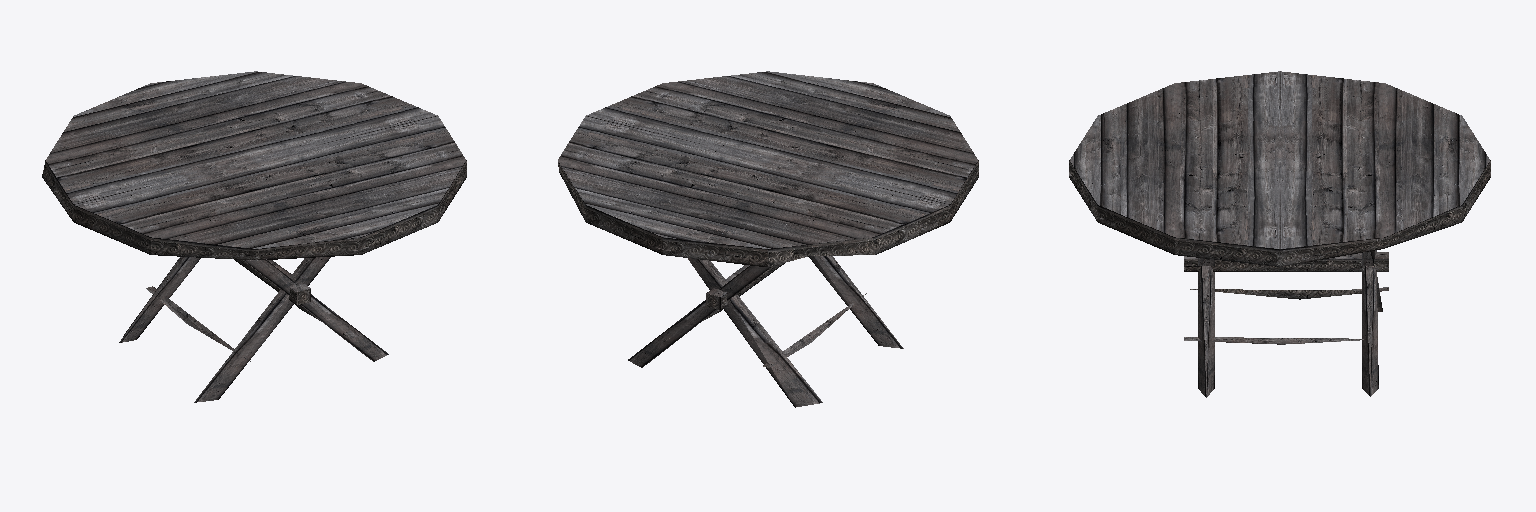
The picture shows the model from 3 angles: view 1: azimuth 30°, elevation 25°; view 2: azimuth 150°, elevation 25°; view 3: azimuth 270°, elevation 25°; orthographic projection.
Visible parts, largest first — view 1: Default_Layer; view 2: Default_Layer; view 3: Default_Layer.
Part boxes in pixels (x1,y1,x2,y2): Default_Layer: (42, 71, 466, 402); Default_Layer: (558, 71, 978, 407); Default_Layer: (1069, 71, 1490, 397).
Bounding box in the file's own units: 7.44 × 3.73 × 7.46.
1 materials, 1 textured.